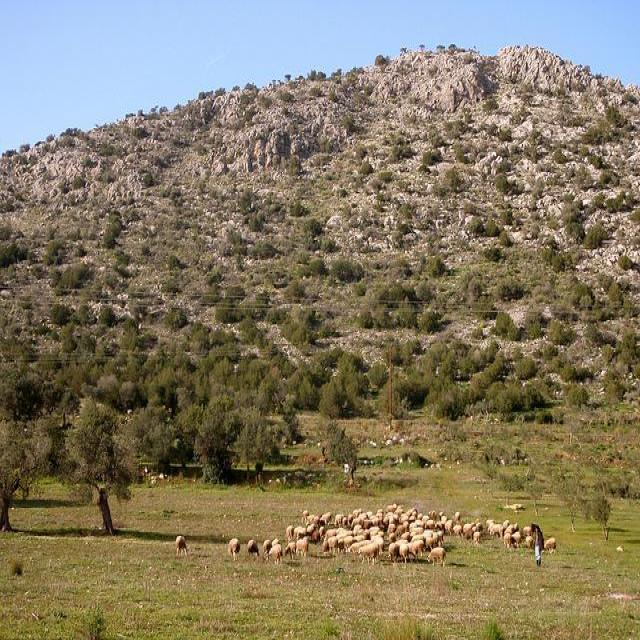Sheep: (171, 463, 585, 577)
